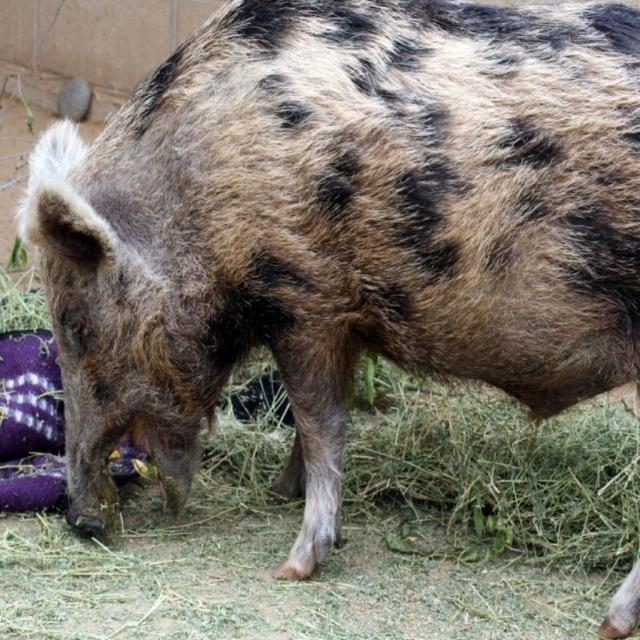Pig: (8, 0, 638, 638)
